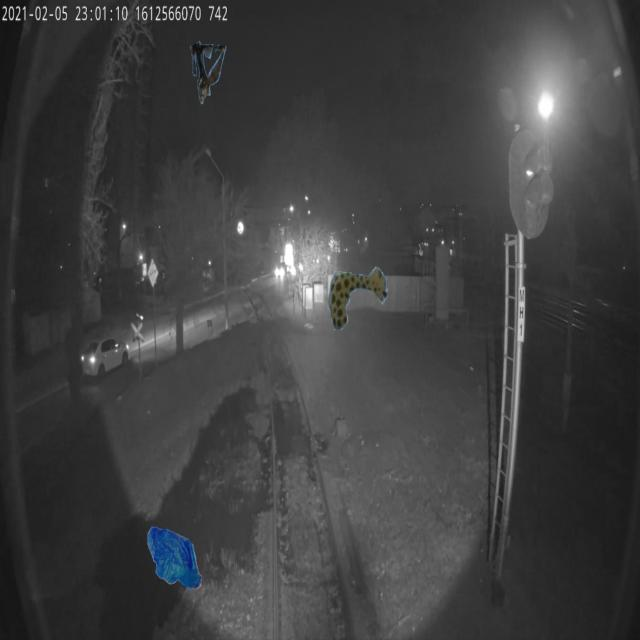floating object: (328, 266, 387, 330), (190, 40, 227, 104)
plastic bag: (147, 525, 202, 589)
